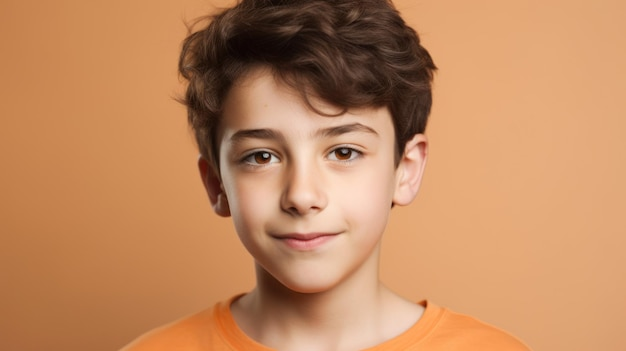teen: (177, 1, 435, 308)
